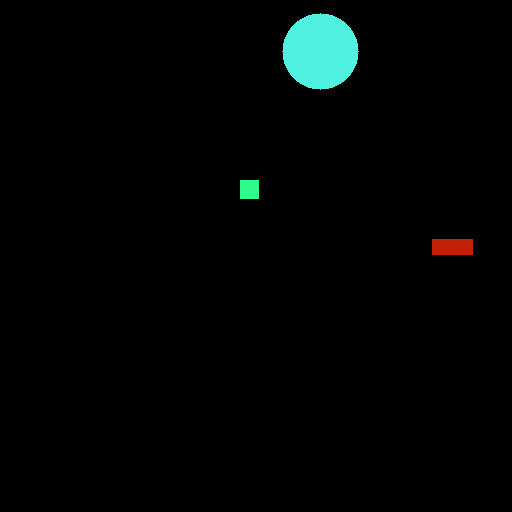circle: (282, 14, 360, 90)
side_rect: (430, 237, 475, 258)
square: (236, 177, 263, 201)
